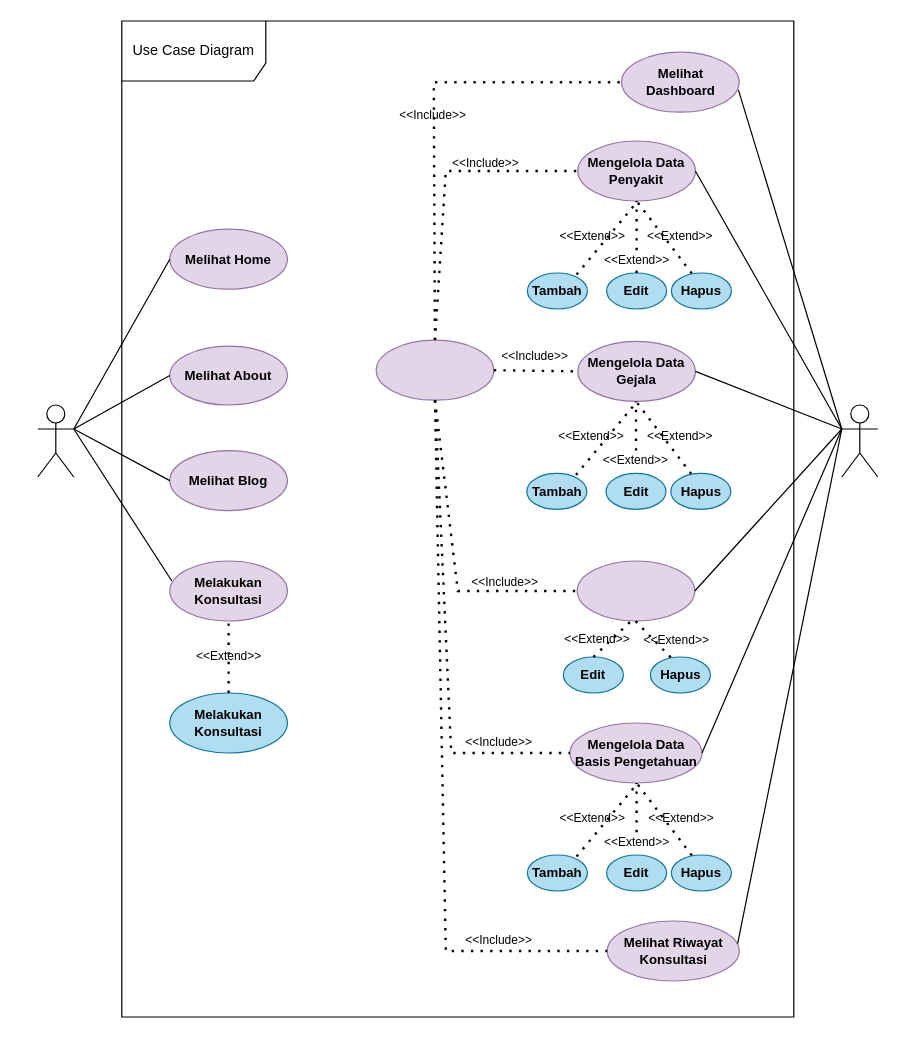
Some shapes in this 902 by 1038 pixel diagram are drawn without their labels. Here are the shapes that lost their labels. From the top down, the box of each, then its label:
(375, 339, 494, 400): Login Admin
(37, 404, 74, 477): Pengguna
(841, 404, 878, 477): Admin
(576, 560, 695, 621): Mengelola Data Pasien
